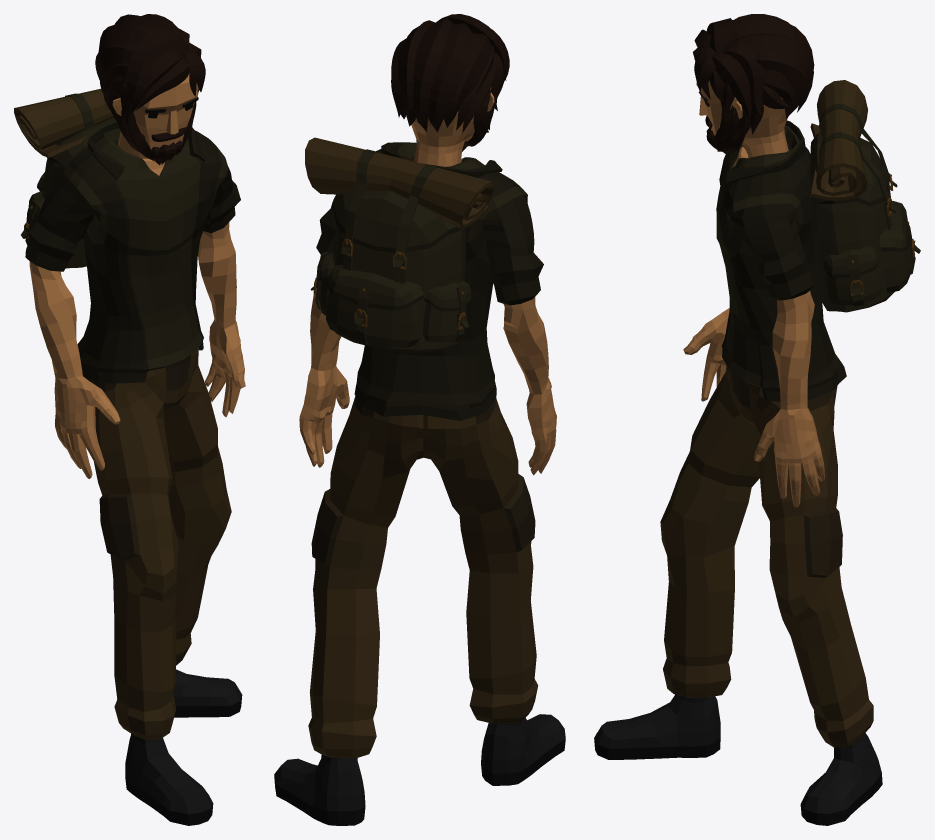
3 views of the same model, side by side, from view 1: azimuth 30°, elevation 25°; view 2: azimuth 150°, elevation 25°; view 3: azimuth 270°, elevation 25° (orthographic). The views are drawn at different scales.
Parts seen in each view (by area): view 1: Adventurer_Body; view 2: Adventurer_Body; view 3: Adventurer_Body.
Boxes of the visible parts, x1=… form: Adventurer_Body: x1=14, y1=14, x2=245, y2=825; Adventurer_Body: x1=274, y1=14, x2=565, y2=825; Adventurer_Body: x1=594, y1=14, x2=920, y2=825.
Size of the model in its own units: 0.5982 by 1.82 by 0.7227.
